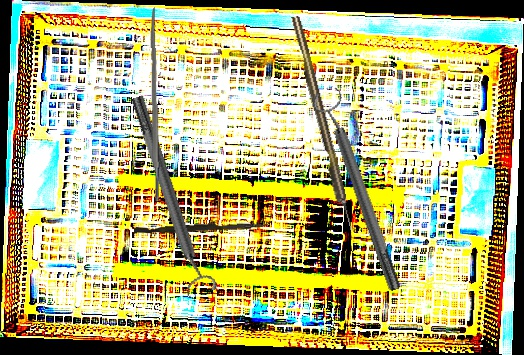Fixation Ring: (309, 85, 410, 296), (122, 91, 219, 299)
Hook Surgical: (290, 14, 355, 234)
Pusher: (133, 218, 269, 237)
Scalpel Handle: (148, 7, 161, 203)
